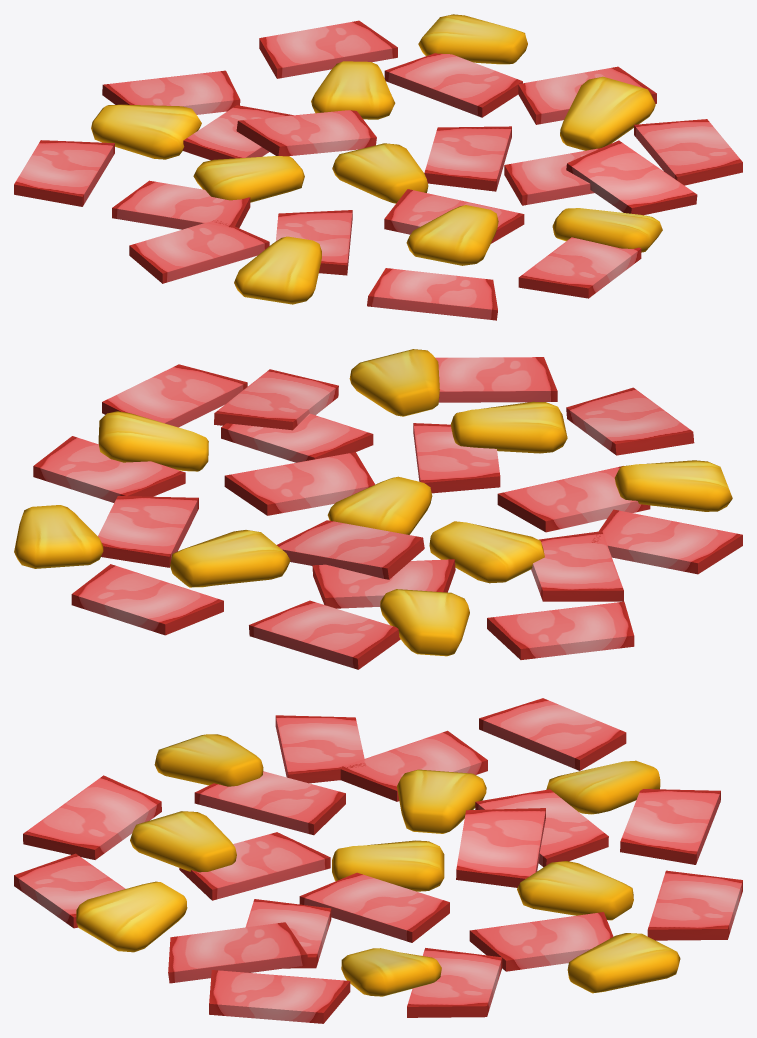
File: Toppings_HamPineapple.fbx
The picture shows the model from 3 angles, top to bottom: view 1: azimuth 30°, elevation 25°; view 2: azimuth 150°, elevation 25°; view 3: azimuth 270°, elevation 25°; orthographic projection. The views are drawn at different scales.
Visible parts, largest first — view 1: Toppings_HamPineapple; view 2: Toppings_HamPineapple; view 3: Toppings_HamPineapple.
Boxes of the visible parts, box(x1,y1,x2,y2) form: Toppings_HamPineapple: box(14, 14, 742, 320); Toppings_HamPineapple: box(14, 349, 742, 669); Toppings_HamPineapple: box(14, 698, 742, 1023).
Size of the model in its own units: 129 by 7.92 by 128.
